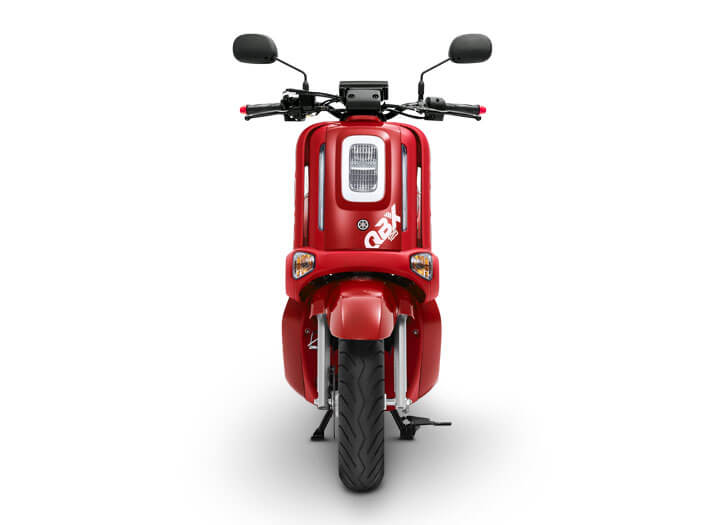motorcycle: (232, 33, 491, 497)
